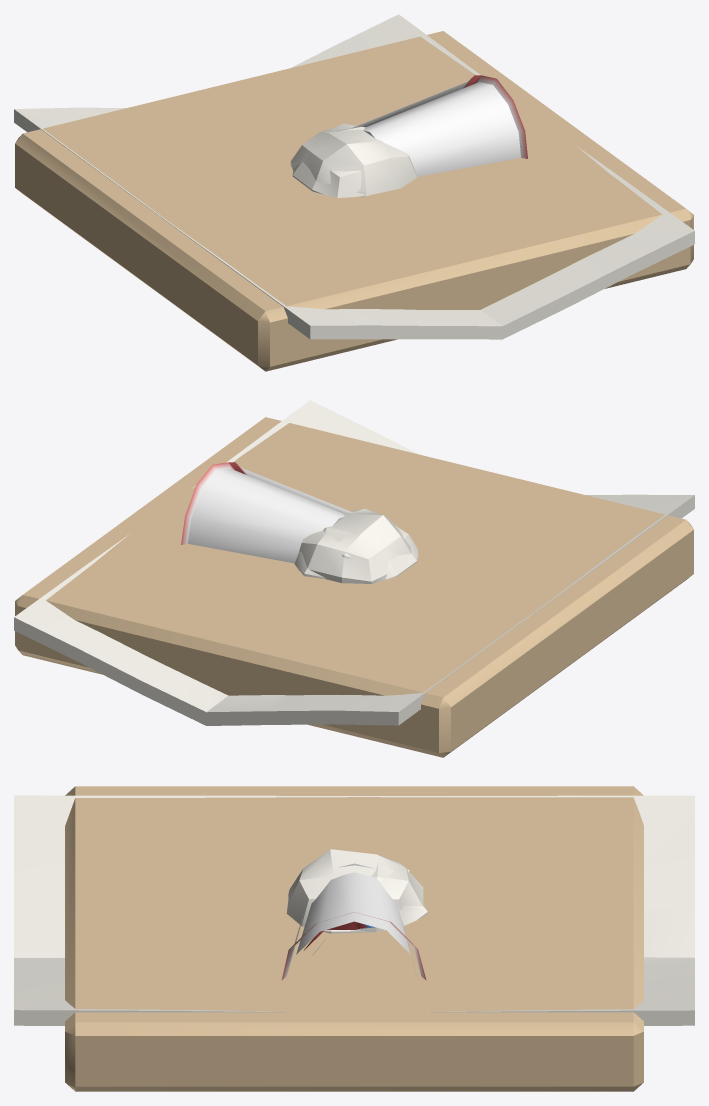
File: litter_kit.glb
The picture shows the model from 3 angles, top to bottom: view 1: azimuth 30°, elevation 25°; view 2: azimuth 150°, elevation 25°; view 3: azimuth 270°, elevation 25°; orthographic projection. The views are drawn at different scales.
Visible parts, largest first — view 1: pizza_box, newspaper, cup, paper_crumpled_a, paper_crumpled_b; view 2: pizza_box, newspaper, cup, paper_crumpled_a, paper_crumpled_b; view 3: pizza_box, newspaper, cup, paper_crumpled_a, paper_crumpled_b.
Boxes of the visible parts, box(x1,y1,x2,y2) form: pizza_box: box(15, 31, 693, 371); newspaper: box(14, 14, 694, 339); cup: box(350, 75, 527, 176); paper_crumpled_a: box(290, 123, 416, 196); paper_crumpled_b: box(292, 126, 371, 197); pizza_box: box(15, 417, 693, 757); newspaper: box(14, 400, 694, 725); cup: box(181, 462, 354, 563); paper_crumpled_a: box(299, 509, 411, 583); paper_crumpled_b: box(294, 525, 418, 579); pizza_box: box(65, 786, 643, 1091); newspaper: box(14, 795, 694, 1025); cup: box(282, 863, 426, 980); paper_crumpled_a: box(286, 849, 423, 932); paper_crumpled_b: box(323, 862, 427, 933).
Bounding box in the file's own units: 0.34 × 0.0894 × 0.4.
